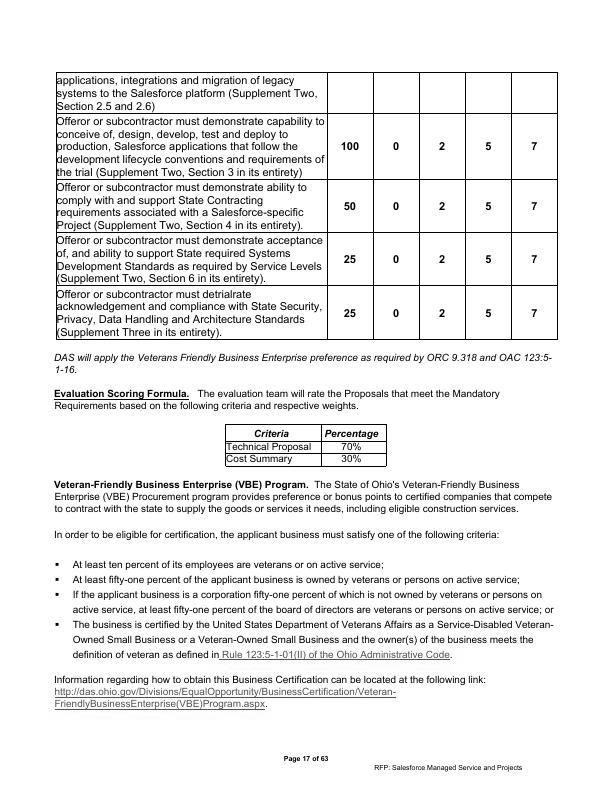table: (51, 66, 564, 346), (222, 421, 390, 469)
text: (63, 556, 561, 664), (50, 476, 558, 521), (51, 671, 493, 718), (50, 385, 506, 416), (54, 351, 558, 376), (50, 525, 504, 546), (370, 757, 530, 777), (279, 749, 331, 767)
